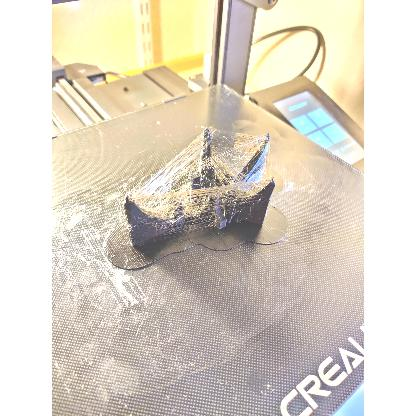fail: (145, 138, 201, 186), (210, 126, 246, 166), (144, 192, 184, 216), (184, 187, 212, 209)
